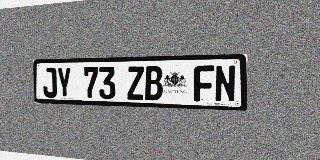3: (99, 67, 115, 99)
7: (83, 67, 99, 99)
B: (145, 66, 163, 101)
F: (194, 65, 214, 102)
J: (42, 67, 57, 98)
N: (215, 65, 236, 102)
Y: (57, 67, 72, 98)
Z: (127, 66, 144, 100)
